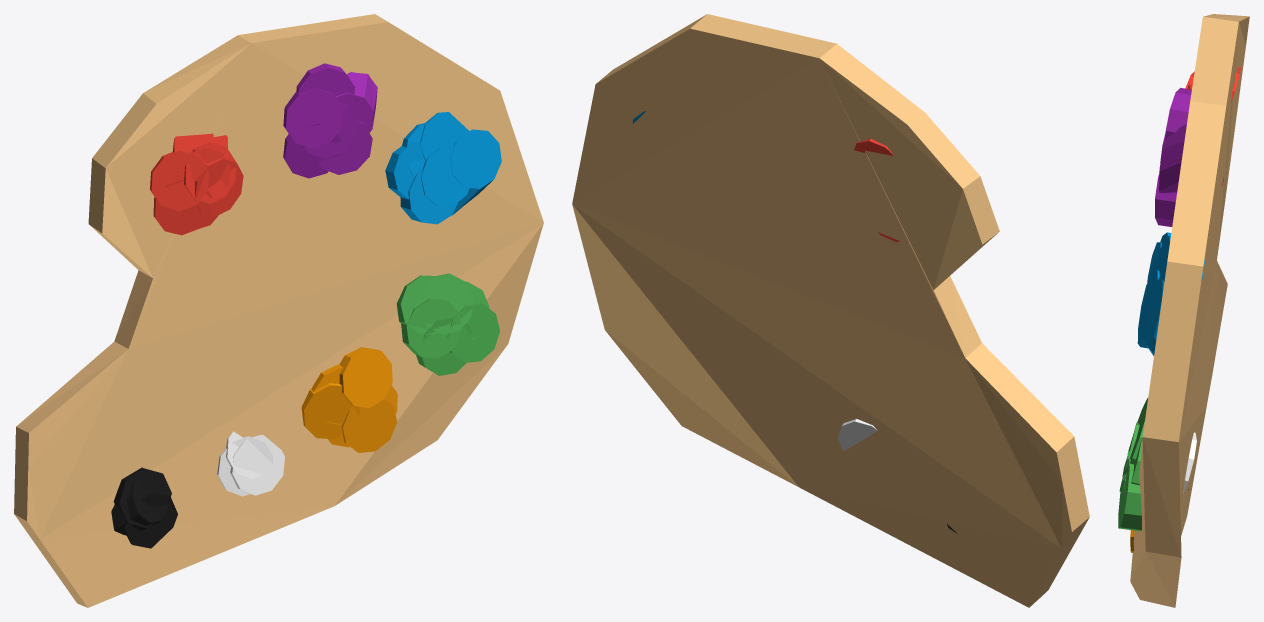
File: board_palette.glb
3 renders of one model, left to right at view 1: azimuth 30°, elevation 25°; view 2: azimuth 150°, elevation 25°; view 3: azimuth 270°, elevation 25°, orthographic. The views are drawn at different scales.
Parts seen in each view (by area): view 1: board_palette; view 2: board_palette; view 3: board_palette.
Part boxes in pixels (x1=…): board_palette: x1=14, y1=14, x2=543, y2=607; board_palette: x1=572, y1=14, x2=1089, y2=607; board_palette: x1=1118, y1=14, x2=1249, y2=607.
Bounding box in the file's own units: 1.05 × 1.02 × 0.2012.
